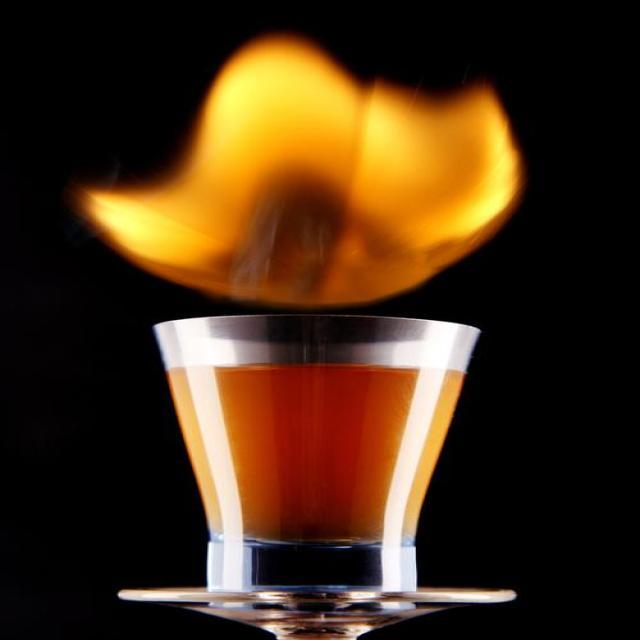Fire: (74, 31, 520, 312)
